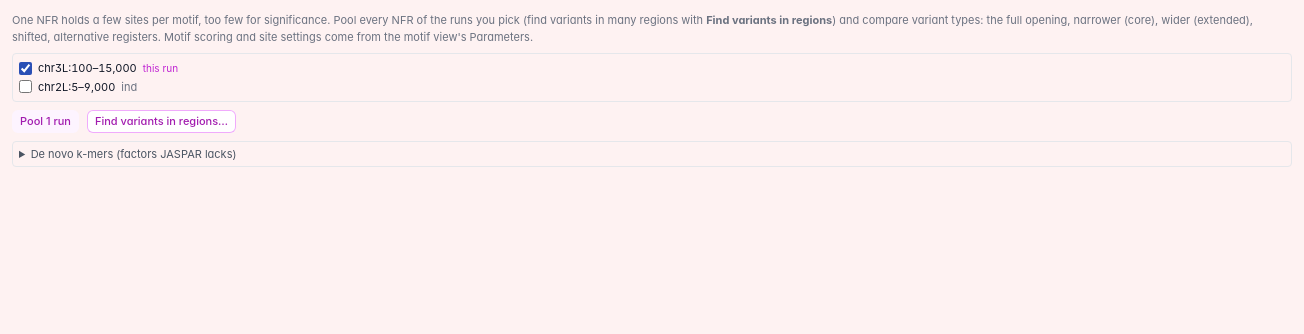
Test case: NFR motifs pooled over runs › pools the picked runs with the shared scoring, and draws family x type cells with q stars
What coordinates should you click on to do the following:
click the checkbox labelled "chr2L:5–9,000 ind"
I would click on:
 (26, 87)
Its box is x1=19 y1=80 x2=32 y2=93.
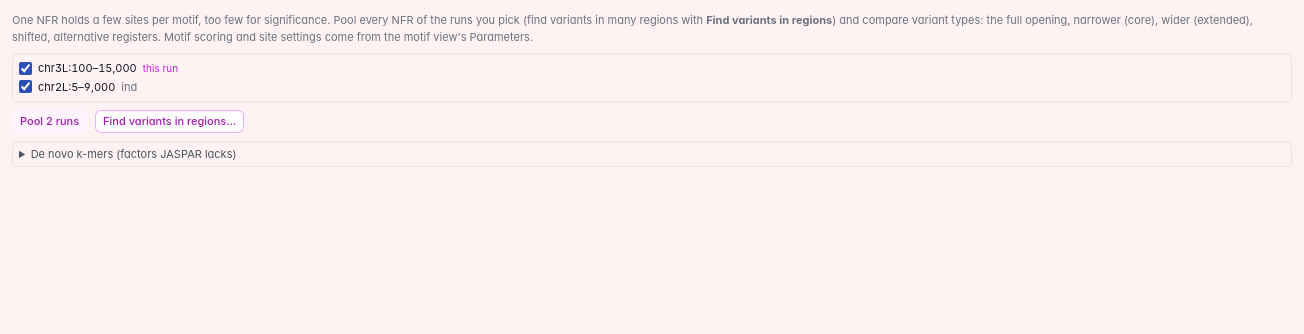
What coordinates should you click on to do the following:
click the button "Pool 2 runs"
I would click on:
 (50, 121)
Its box is x1=12 y1=110 x2=87 y2=132.
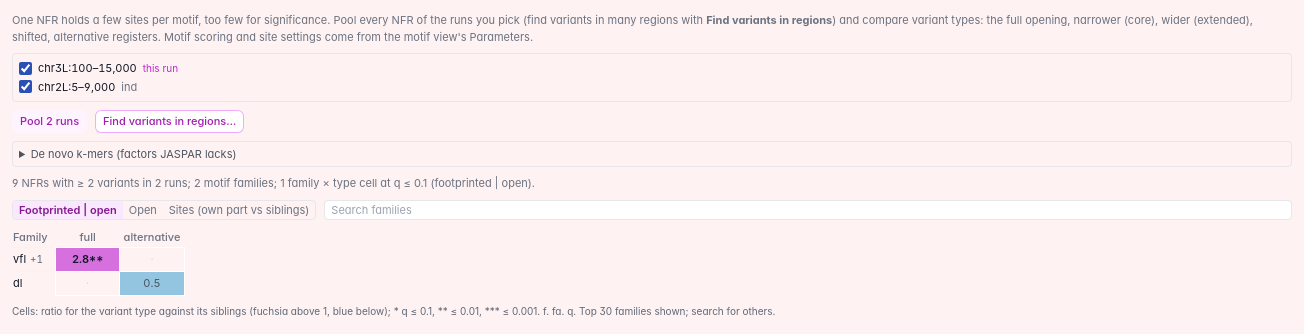
Now the cell "2.8**" is shown, box x1=56 y1=247 x2=120 y2=271
What coordinates should you click on to do the following:
click the radio button labelled "Sites (own part vs siblings)"
I would click on:
 (239, 210)
Its box is x1=163 y1=200 x2=315 y2=219.
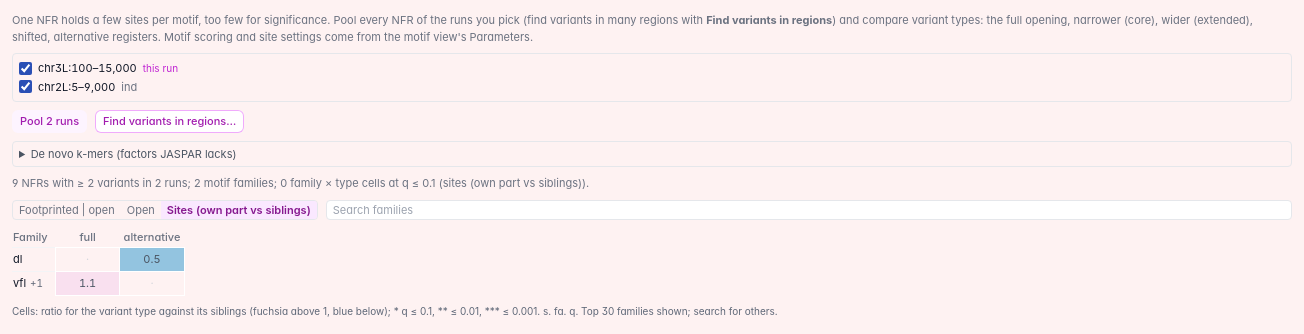
Now the cell "1.1" is shown, box x1=56 y1=271 x2=120 y2=295
